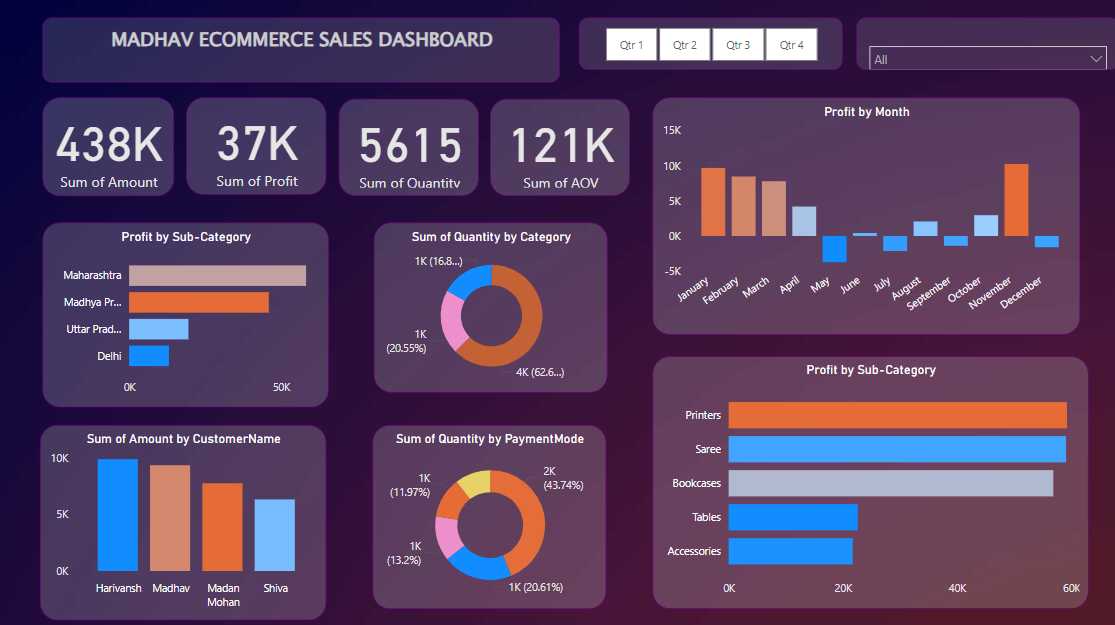

Layout of this report page (visuals, bound fields, positions):
{"tool":"powerbi","page":{"name":"Page 1","canvas":[1280,720],"ordinal":0},"visuals":[{"type":"textbox","box":[48.6,20,591.4,74.3],"z":0},{"type":"columnChart","title":"Profit by Month","fields":{"Y":["Details.Profit"],"Category":["Orders.Order Date.Variation.Date Hierarchy.Month"]},"box":[745.7,111.4,488.6,271.4],"z":1000},{"type":"barChart","title":"Profit by Sub-Category","fields":{"Category":["Details.Sub-Category"],"Y":["Details.Amount"]},"box":[745.7,407.1,498.6,288.6],"z":2000},{"type":"donutChart","fields":{"Category":["Details.Category"],"Y":["Details.Quantity"]},"box":[427.1,254.3,267.1,194.3],"z":3000},{"type":"donutChart","fields":{"Category":["Details.PaymentMode"],"Y":["Details.Quantity"]},"box":[425.7,485.7,267.1,210],"z":4000},{"type":"card","fields":{"Values":["Details.Amount"]},"box":[48.6,111.4,150,112.9],"z":5000},{"type":"card","fields":{"Values":["Details.Quantity"]},"box":[387.1,112.9,160,111.4],"z":6000},{"type":"card","fields":{"Values":["Details.Profit"]},"box":[212.9,111.4,160,111.4],"z":7000},{"type":"card","fields":{"Values":["Details.AOV"]},"box":[560,112.9,160,111.4],"z":8000},{"type":"barChart","title":"Profit by Sub-Category","fields":{"Category":["Orders.State"],"Y":["Details.Amount"]},"box":[48.6,254.3,327.1,211.4],"z":9000},{"type":"columnChart","fields":{"Category":["Orders.CustomerName"],"Y":["Details.Amount"]},"box":[45.7,485.7,327.1,222.9],"z":10000},{"type":"slicer","fields":{"Values":["Orders.Order Date.Variation.Date Hierarchy.Quarter"]},"box":[661.4,20,301.4,60],"z":11000},{"type":"slicer","fields":{"Values":["Orders.State"]},"box":[978.6,20,301.4,60],"z":12000}]}

Visuals, with their boxes in screenshot pixels (x1, y1, x2, y2), scaled from the page's 1280x720 canvas onto the 1115x625 screenshot:
textbox: box(42, 17, 558, 82)
"Profit by Month" columnChart: box(650, 97, 1075, 332)
"Profit by Sub-Category" barChart: box(650, 353, 1084, 604)
donutChart - Details.Category x Details.Quantity: box(372, 221, 605, 389)
donutChart - Details.PaymentMode x Details.Quantity: box(371, 422, 603, 604)
card - Details.Amount: box(42, 97, 173, 195)
card - Details.Quantity: box(337, 98, 477, 195)
card - Details.Profit: box(185, 97, 325, 193)
card - Details.AOV: box(488, 98, 627, 195)
"Profit by Sub-Category" barChart: box(42, 221, 327, 404)
columnChart - Orders.CustomerName x Details.Amount: box(40, 422, 325, 615)
slicer - Orders.Order Date.Variation.Date Hierarchy.Quarter: box(576, 17, 839, 69)
slicer - Orders.State: box(852, 17, 1114, 69)
